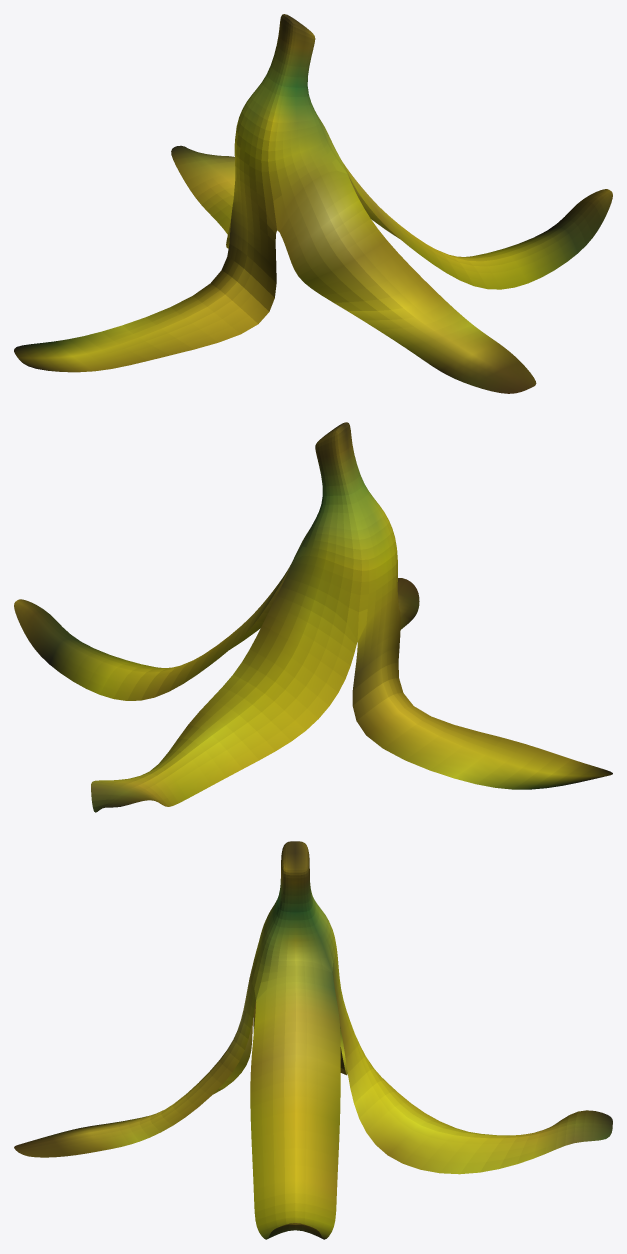
Rendered from Banana.fbx.
3 renders of one model, top to bottom at view 1: azimuth 30°, elevation 25°; view 2: azimuth 150°, elevation 25°; view 3: azimuth 270°, elevation 25°, orthographic. The views are drawn at different scales.
Visible parts, largest first — view 1: Banana; view 2: Banana; view 3: Banana.
Boxes of the visible parts, bbox=[...] form: Banana: bbox=[14, 14, 612, 393]; Banana: bbox=[14, 422, 612, 812]; Banana: bbox=[14, 841, 612, 1239].
Size of the model in its own units: 465 by 231 by 439.
